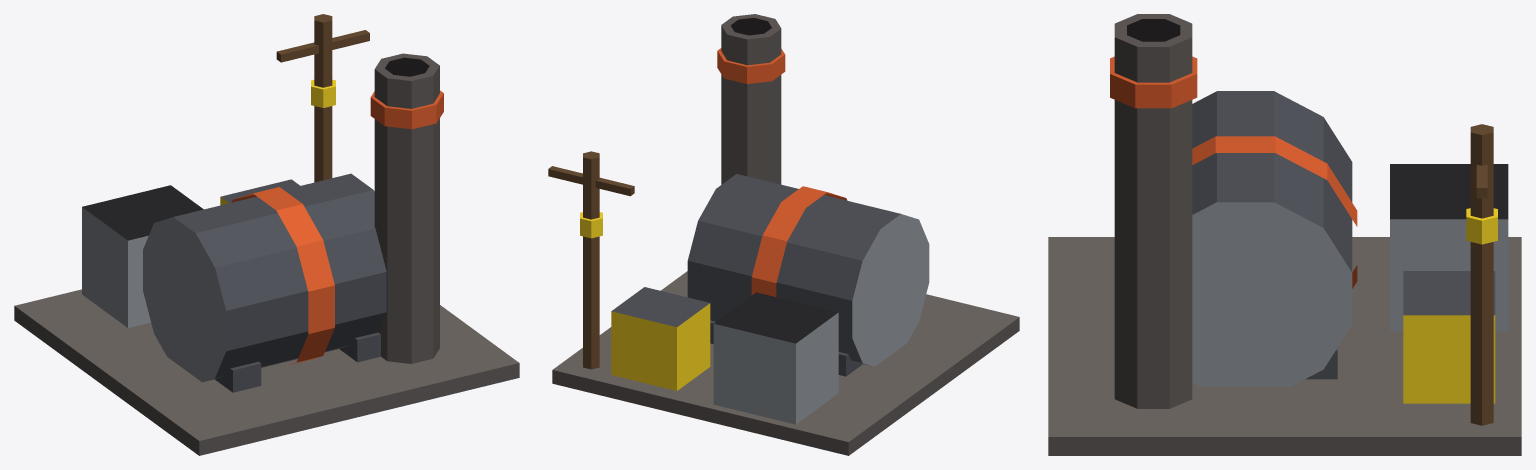
The model's file is burner_generator.obj.
3 renders of one model, left to right at view 1: azimuth 30°, elevation 25°; view 2: azimuth 150°, elevation 25°; view 3: azimuth 270°, elevation 25°, orthographic. The views are drawn at different scales.
Bounding box in the file's own units: 3.8 × 3.2 × 3.6.
